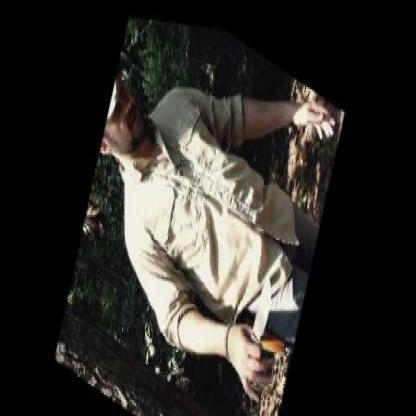knife: (241, 255, 284, 387)
